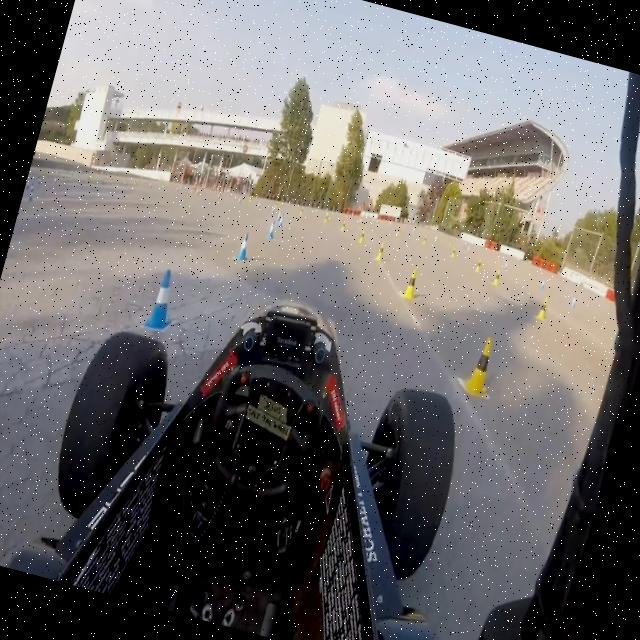blue_cone: (140, 262, 188, 338), (233, 228, 254, 268), (265, 220, 277, 240), (275, 211, 287, 230), (24, 188, 36, 206), (568, 292, 578, 310), (16, 197, 24, 218), (538, 278, 546, 293), (275, 208, 282, 222), (502, 259, 509, 272), (28, 182, 35, 195), (24, 178, 30, 192), (269, 206, 275, 218), (255, 200, 262, 210)
yellow_cone: (454, 327, 504, 404), (398, 266, 422, 302), (534, 295, 551, 322), (372, 239, 387, 264), (491, 268, 502, 288), (472, 258, 482, 277), (338, 218, 348, 234), (357, 230, 366, 244), (394, 226, 402, 238), (449, 246, 457, 258), (298, 205, 305, 218), (420, 236, 428, 246), (322, 212, 328, 225), (247, 194, 254, 205), (273, 200, 279, 210)
